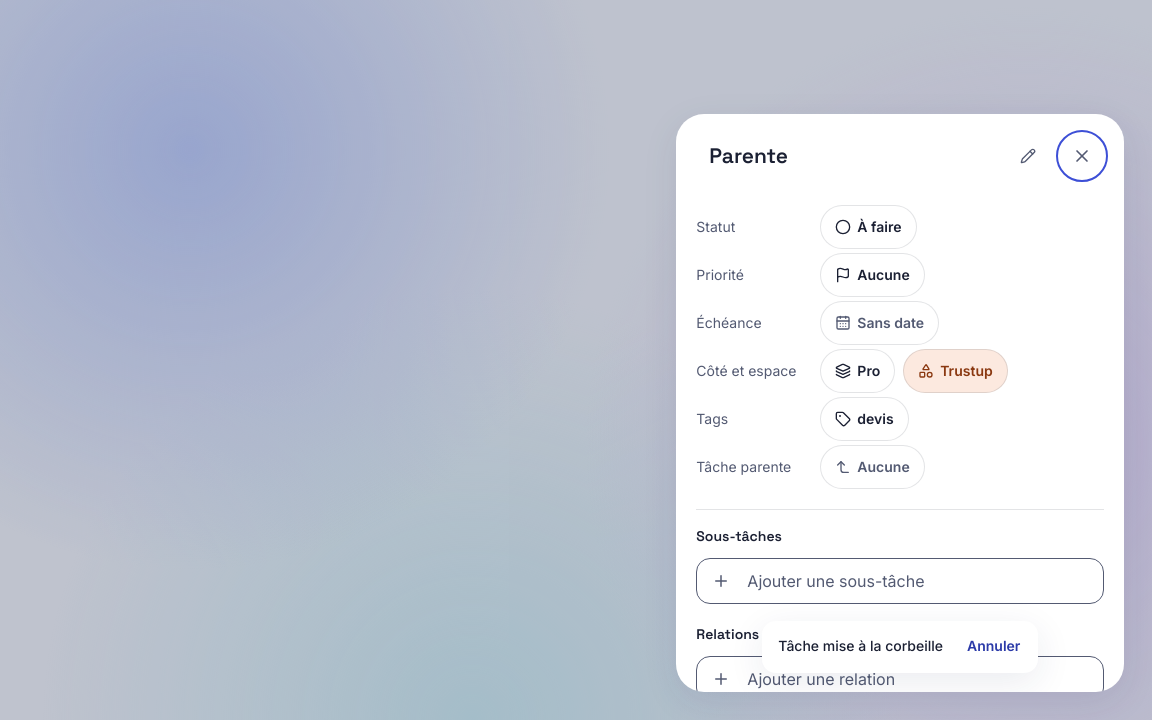
Test: détail : corbeille › sous-tâche : message et « Annuler » dans la fenêtre du détail de la parente, « Annuler » la restaure
Earlier steps of the test are not shown.
Expected: the text "Tâche mise à la corbeille" is shown, [778, 637, 943, 654]
Step 1. Click the button "Annuler" → [994, 646], box [955, 624, 1032, 668]
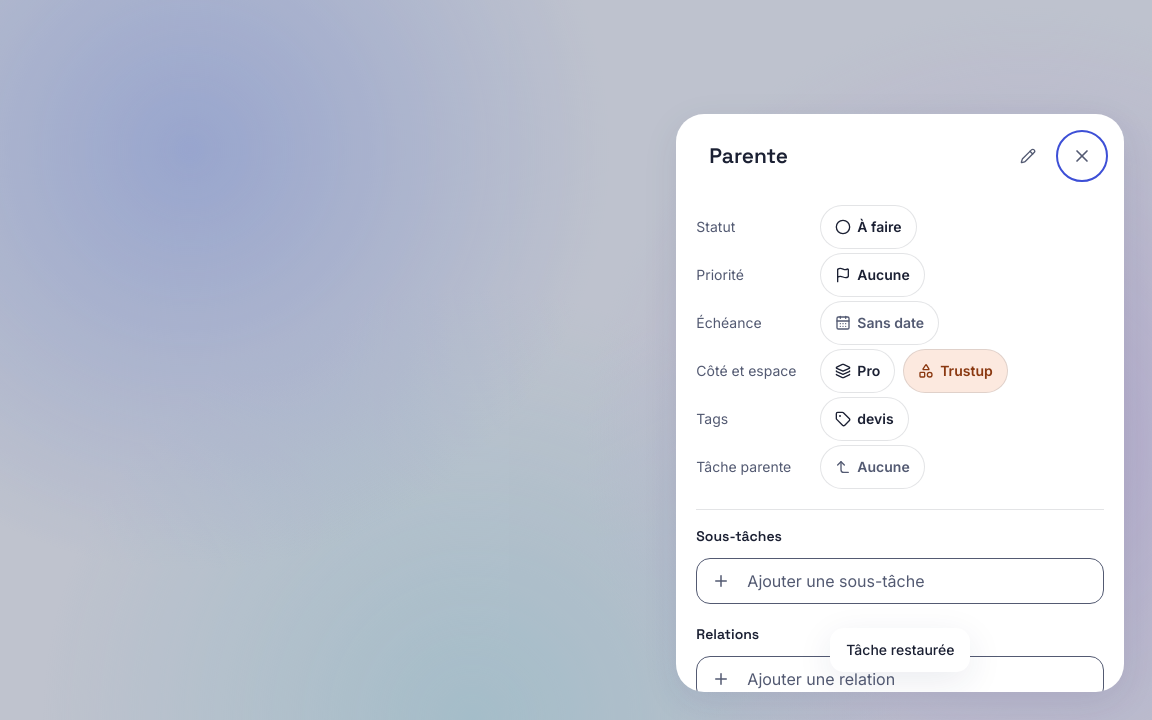
Result: the text "Tâche restaurée" is shown at [846, 641, 954, 658]
